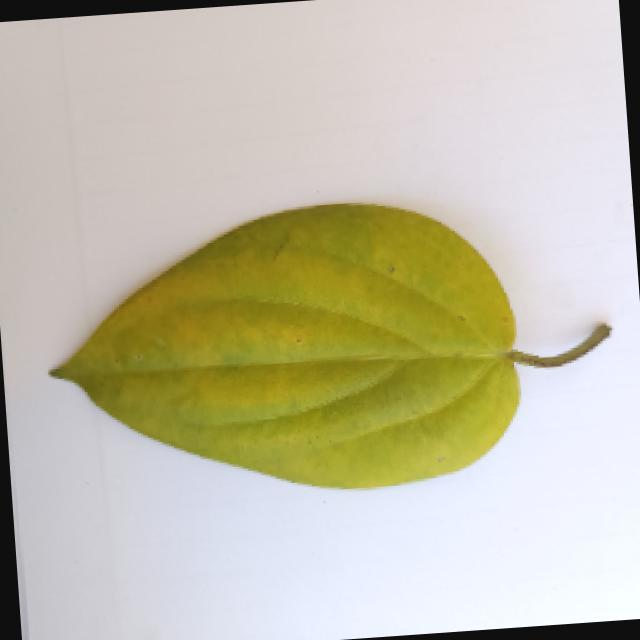slow-decline: (39, 167, 632, 516)
